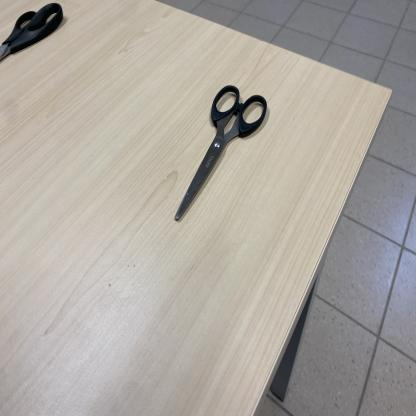scissors: (173, 84, 268, 223), (0, 0, 64, 63)
